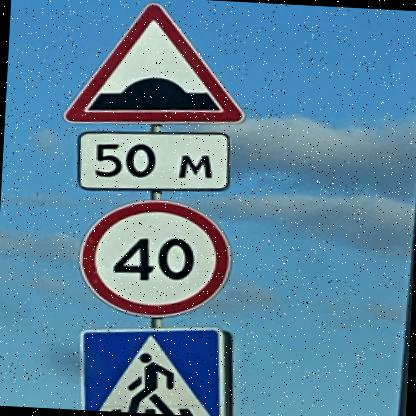crosswalk: (73, 318, 234, 415)
speedlimit: (71, 194, 232, 317)
